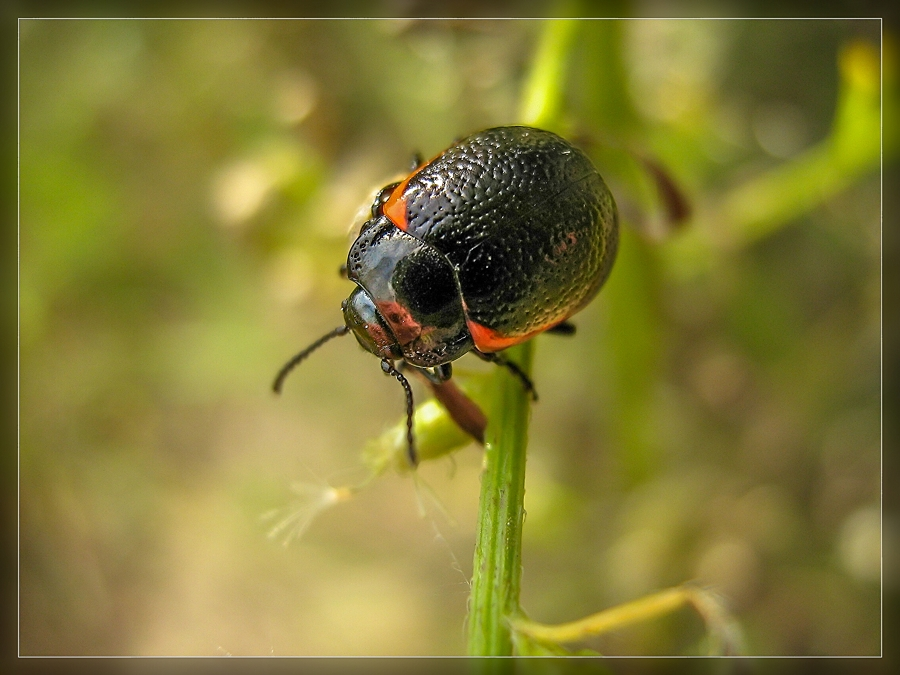Chrysolina_gypsophila: (270, 121, 622, 464)
